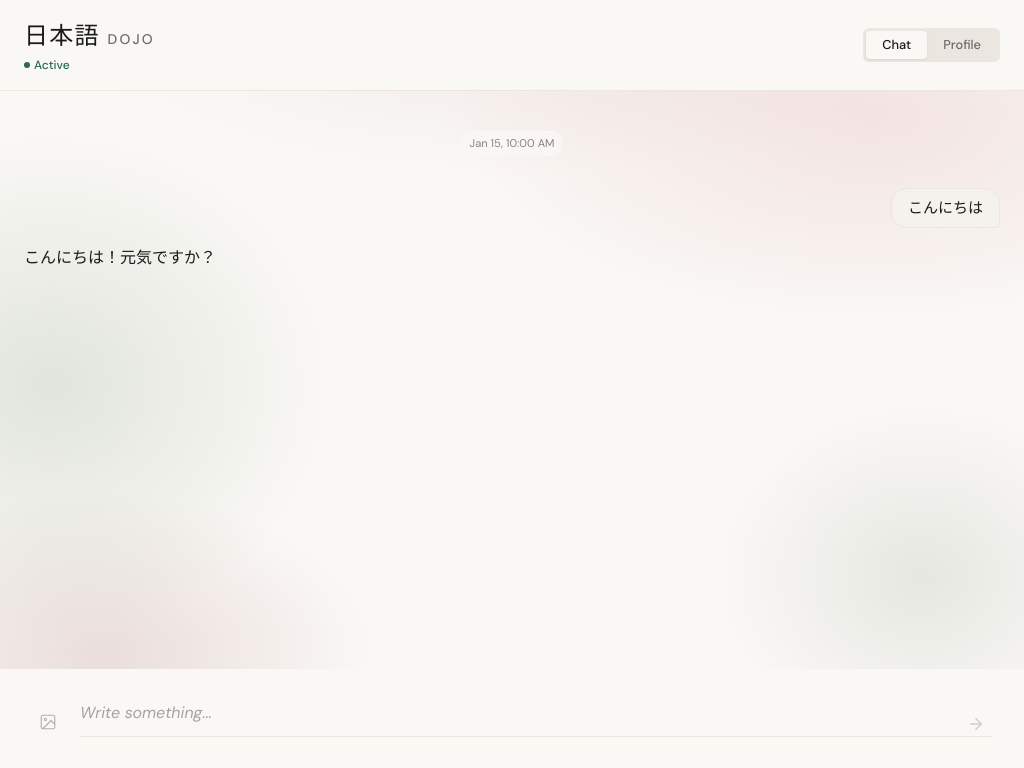
Test case: Chat › tabs › shows empty profile message when no facts
Step 1. Click the button "Profile" → (962, 45), box x1=927 y1=31 x2=997 y2=59
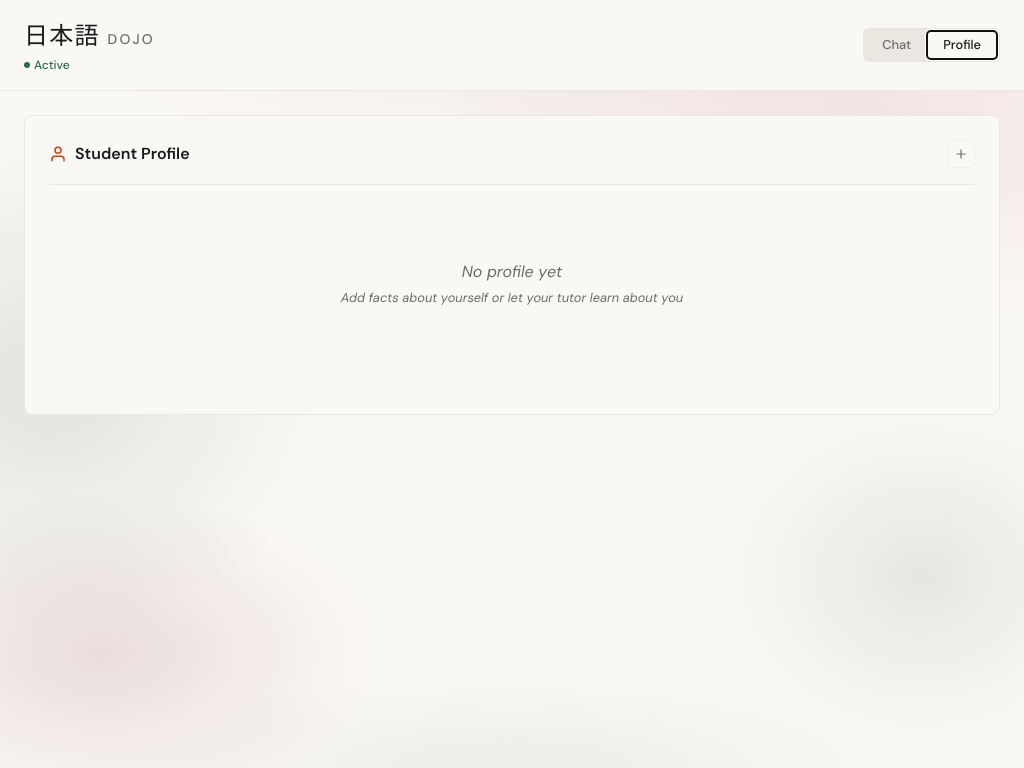
Expected: the text "No profile yet" is shown, x1=462 y1=260 x2=562 y2=284
